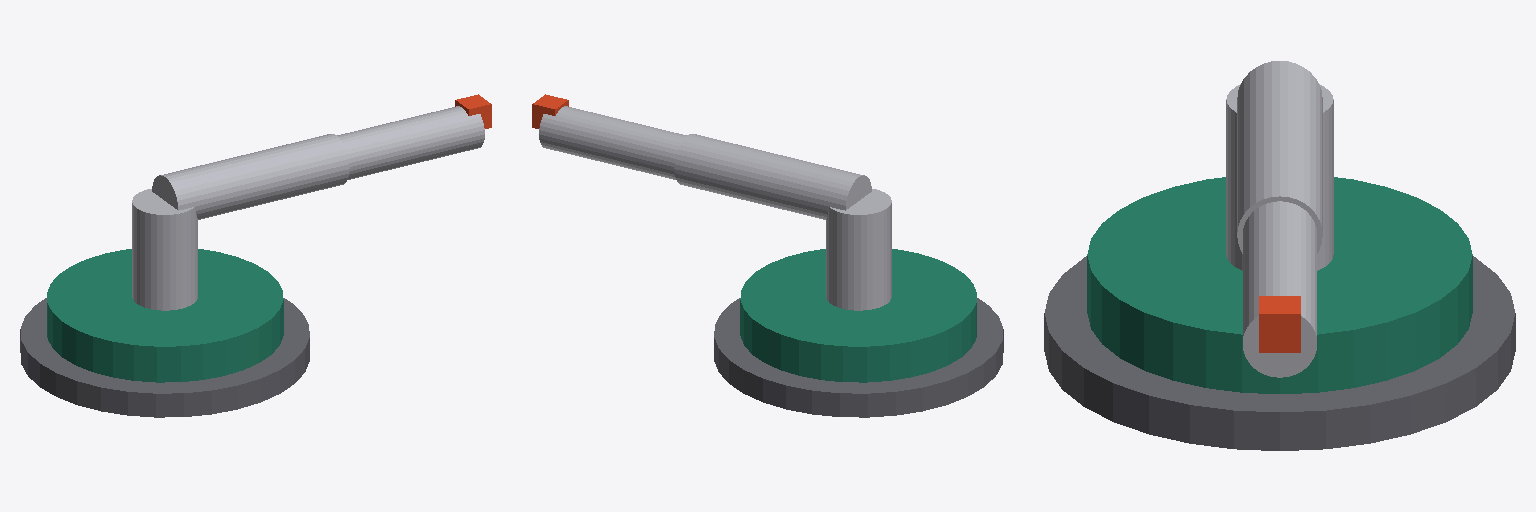
The robot description file, URDF, robot "turntable_arm":
<?xml version="1.0"?>
<!-- Minimal 1-DOF turntable + 3R arm for Motus planning-group demos.
     Tip path: turntable → shoulder → elbow → wrist (4 actuated joints).
     No external meshes — box/cylinder primitives only. -->
<robot name="turntable_arm">
  <link name="base_link">
    <visual>
      <origin xyz="0 0 0.02" rpy="0 0 0"/>
      <geometry><cylinder length="0.04" radius="0.22"/></geometry>
      <material name="base_grey"><color rgba="0.45 0.45 0.48 1"/></material>
    </visual>
    <collision>
      <origin xyz="0 0 0.02" rpy="0 0 0"/>
      <geometry><cylinder length="0.04" radius="0.22"/></geometry>
    </collision>
  </link>

  <link name="turntable_link">
    <visual>
      <origin xyz="0 0 0.03" rpy="0 0 0"/>
      <geometry><cylinder length="0.06" radius="0.18"/></geometry>
      <material name="turntable"><color rgba="0.2 0.55 0.45 1"/></material>
    </visual>
    <collision>
      <origin xyz="0 0 0.03" rpy="0 0 0"/>
      <geometry><cylinder length="0.06" radius="0.18"/></geometry>
    </collision>
  </link>

  <link name="shoulder_link">
    <visual>
      <origin xyz="0 0 0.08" rpy="0 0 0"/>
      <geometry><cylinder length="0.16" radius="0.05"/></geometry>
      <material name="arm"><color rgba="0.75 0.75 0.78 1"/></material>
    </visual>
    <collision>
      <origin xyz="0 0 0.08" rpy="0 0 0"/>
      <geometry><cylinder length="0.16" radius="0.05"/></geometry>
    </collision>
  </link>

  <link name="elbow_link">
    <visual>
      <origin xyz="0.15 0 0" rpy="0 1.5708 0"/>
      <geometry><cylinder length="0.30" radius="0.04"/></geometry>
      <material name="arm"/>
    </visual>
    <collision>
      <origin xyz="0.15 0 0" rpy="0 1.5708 0"/>
      <geometry><cylinder length="0.30" radius="0.04"/></geometry>
    </collision>
  </link>

  <link name="wrist_link">
    <visual>
      <origin xyz="0.12 0 0" rpy="0 1.5708 0"/>
      <geometry><cylinder length="0.24" radius="0.035"/></geometry>
      <material name="arm"/>
    </visual>
    <collision>
      <origin xyz="0.12 0 0" rpy="0 1.5708 0"/>
      <geometry><cylinder length="0.24" radius="0.035"/></geometry>
    </collision>
  </link>

  <link name="tool0">
    <visual>
      <origin xyz="0 0 0.02" rpy="0 0 0"/>
      <geometry><box size="0.04 0.04 0.04"/></geometry>
      <material name="tip"><color rgba="0.9 0.35 0.2 1"/></material>
    </visual>
    <collision>
      <origin xyz="0 0 0.02" rpy="0 0 0"/>
      <geometry><box size="0.04 0.04 0.04"/></geometry>
    </collision>
  </link>

  <!-- External axis: Z-up rotary table under the arm. -->
  <joint name="turntable" type="revolute">
    <parent link="base_link"/>
    <child link="turntable_link"/>
    <origin xyz="0 0 0.04" rpy="0 0 0"/>
    <axis xyz="0 0 1"/>
    <limit lower="-3.14159" upper="3.14159" velocity="1.5"/>
  </joint>

  <joint name="shoulder" type="revolute">
    <parent link="turntable_link"/>
    <child link="shoulder_link"/>
    <origin xyz="0 0 0.06" rpy="0 0 0"/>
    <axis xyz="0 0 1"/>
    <limit lower="-3.14159" upper="3.14159" velocity="2.0"/>
  </joint>

  <joint name="elbow" type="revolute">
    <parent link="shoulder_link"/>
    <child link="elbow_link"/>
    <origin xyz="0 0 0.16" rpy="0 0 0"/>
    <axis xyz="0 1 0"/>
    <limit lower="-2.5" upper="2.5" velocity="2.0"/>
  </joint>

  <joint name="wrist" type="revolute">
    <parent link="elbow_link"/>
    <child link="wrist_link"/>
    <origin xyz="0.30 0 0" rpy="0 0 0"/>
    <axis xyz="0 1 0"/>
    <limit lower="-2.5" upper="2.5" velocity="2.0"/>
  </joint>

  <joint name="flange" type="fixed">
    <parent link="wrist_link"/>
    <child link="tool0"/>
    <origin xyz="0.24 0 0" rpy="0 0 0"/>
  </joint>
</robot>

--- What the picture shows (computed from the rendered views, not written in the file) ---
3 views of the same robot in one strip: view 1: azimuth 30°, elevation 25°; view 2: azimuth 150°, elevation 25°; view 3: azimuth 270°, elevation 25° (orthographic).
Robot: turntable_arm — 6 links, 5 joints (4 revolute, 1 fixed); root link base_link; default pose: every joint at zero.
Visible links, largest first — view 1: turntable_link, base_link, elbow_link, shoulder_link, wrist_link, tool0; view 2: turntable_link, base_link, elbow_link, shoulder_link, wrist_link, tool0; view 3: turntable_link, base_link, elbow_link, wrist_link, shoulder_link, tool0.
Link boxes in pixels (x1,y1,x2,y2): turntable_link: (47,249,283,382); base_link: (20,298,309,417); elbow_link: (152,134,349,219); shoulder_link: (132,189,197,310); wrist_link: (337,106,484,179); tool0: (455,94,491,128); turntable_link: (740,249,976,382); base_link: (714,298,1003,417); elbow_link: (674,134,871,219); shoulder_link: (826,189,891,310); wrist_link: (539,106,686,179); tool0: (532,94,568,128); turntable_link: (1087,177,1472,393); base_link: (1044,256,1515,450); elbow_link: (1237,61,1322,253); wrist_link: (1243,201,1316,377); shoulder_link: (1226,84,1333,270); tool0: (1259,296,1300,352).
Bounding box of the posed robot: 0.78 × 0.44 × 0.3 m (x, y, z).
Geometry: primitives only (box / cylinder / sphere), no mesh files.
